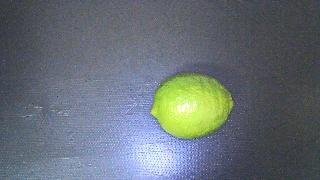EXPORTACION: (150, 73, 233, 139)
